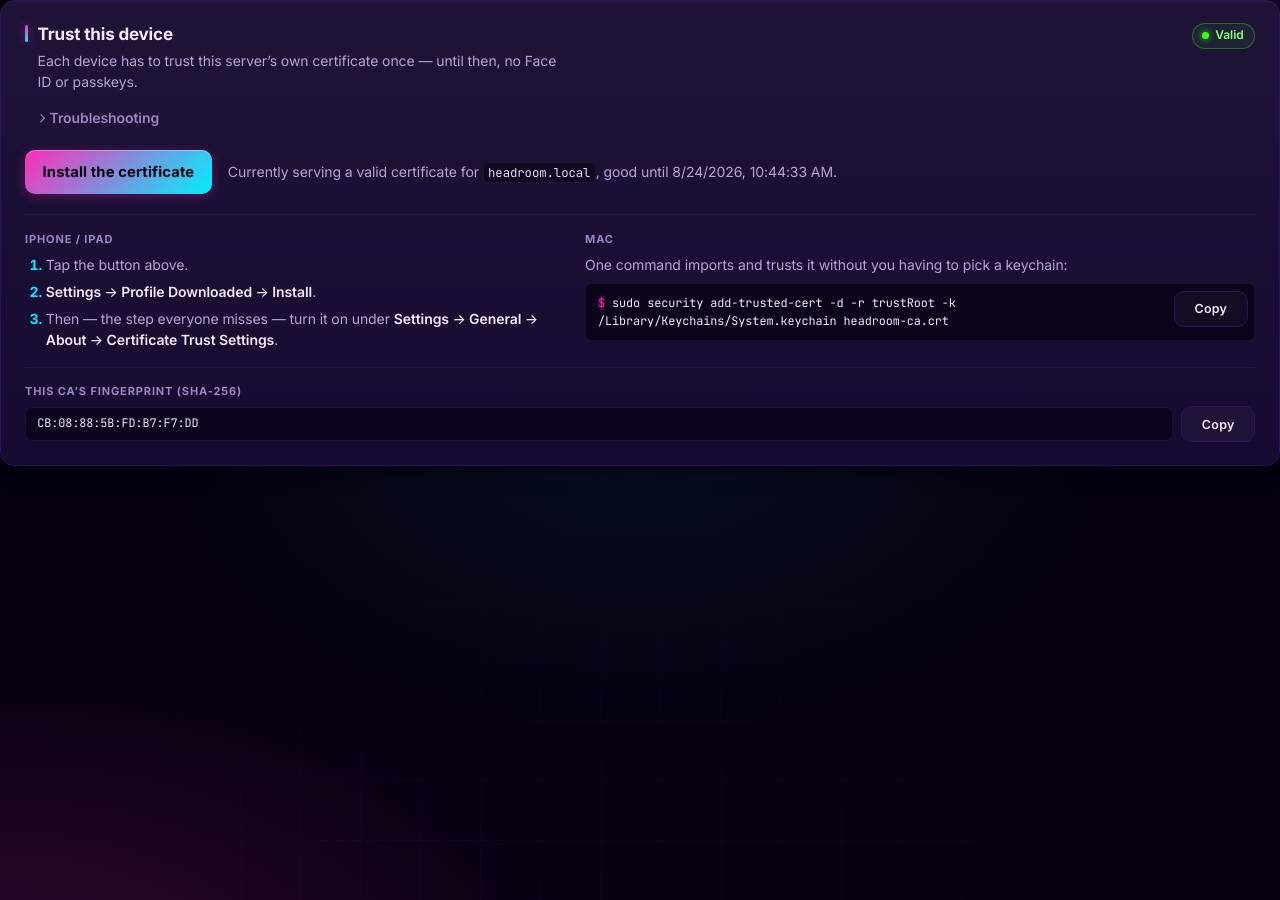
TrustCertCard — copying › copies the fingerprint exactly, and says so in place
Click the button with aria-label "Copy the fingerprint" at coordinates (1218, 424), box top-left (1181, 406), bottom-right (1255, 442)
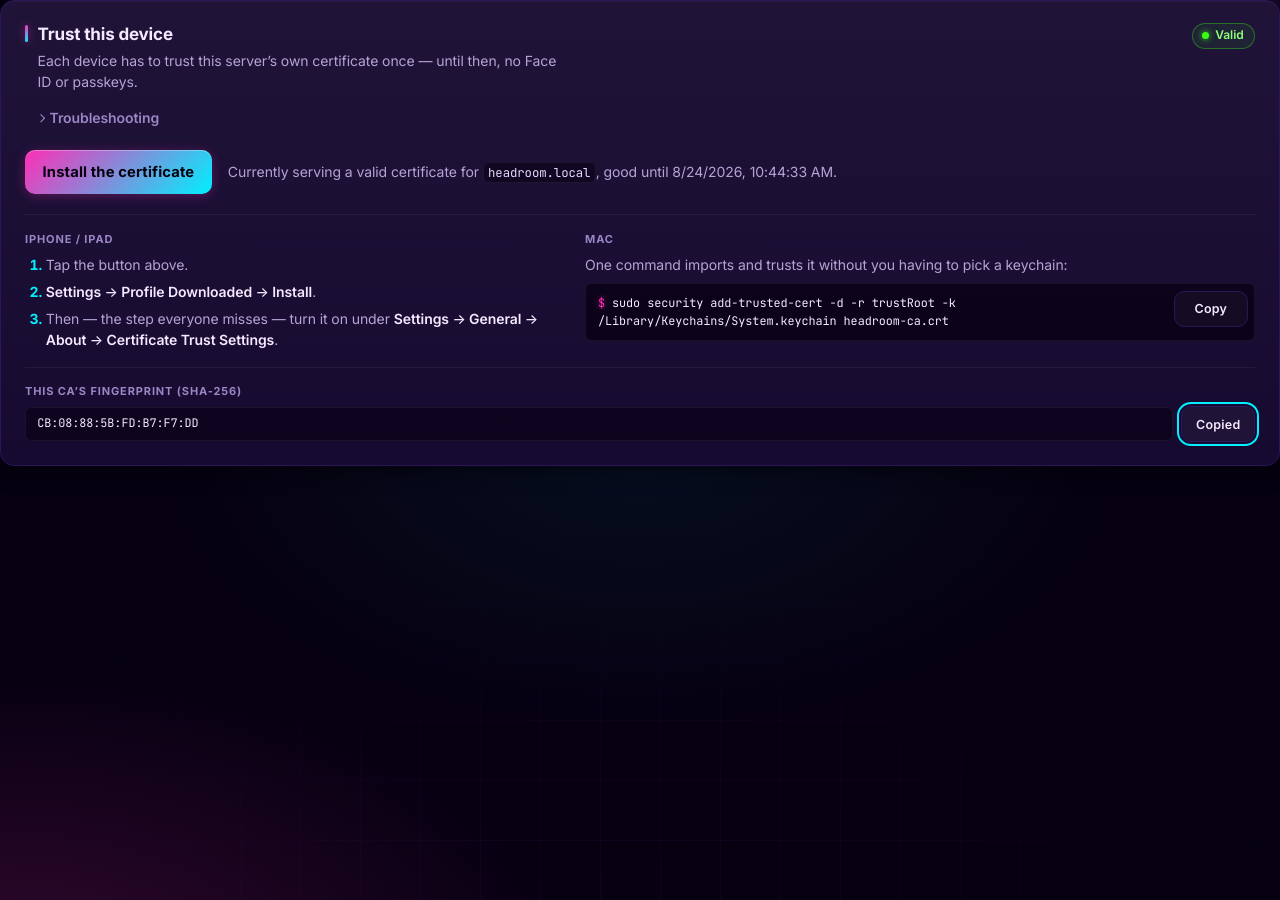
Check: the button with aria-label "Copied the fingerprint" reads "Copied", box top-left (1181, 406), bottom-right (1255, 442)
